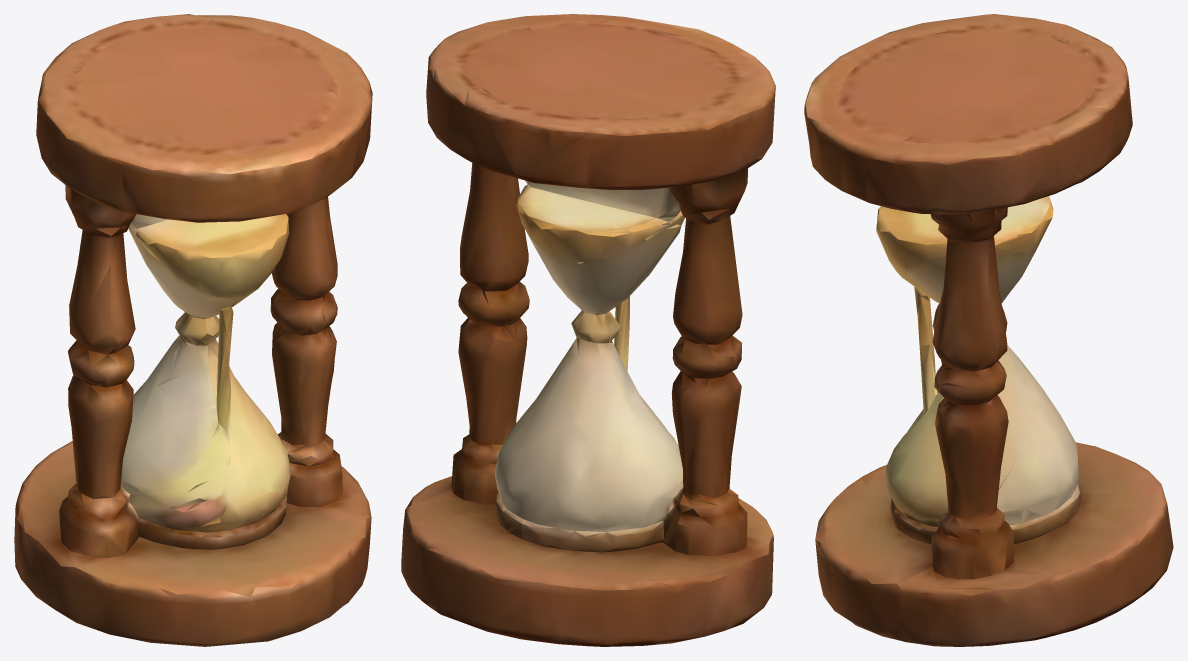
The model's file is deco44.glb.
3 renders of one model, left to right at view 1: azimuth 30°, elevation 25°; view 2: azimuth 150°, elevation 25°; view 3: azimuth 270°, elevation 25°, orthographic. The views are drawn at different scales.
Size of the model in its own units: 0.1393 by 0.2168 by 0.1416.
Materials: 1 (1 with a texture image).
